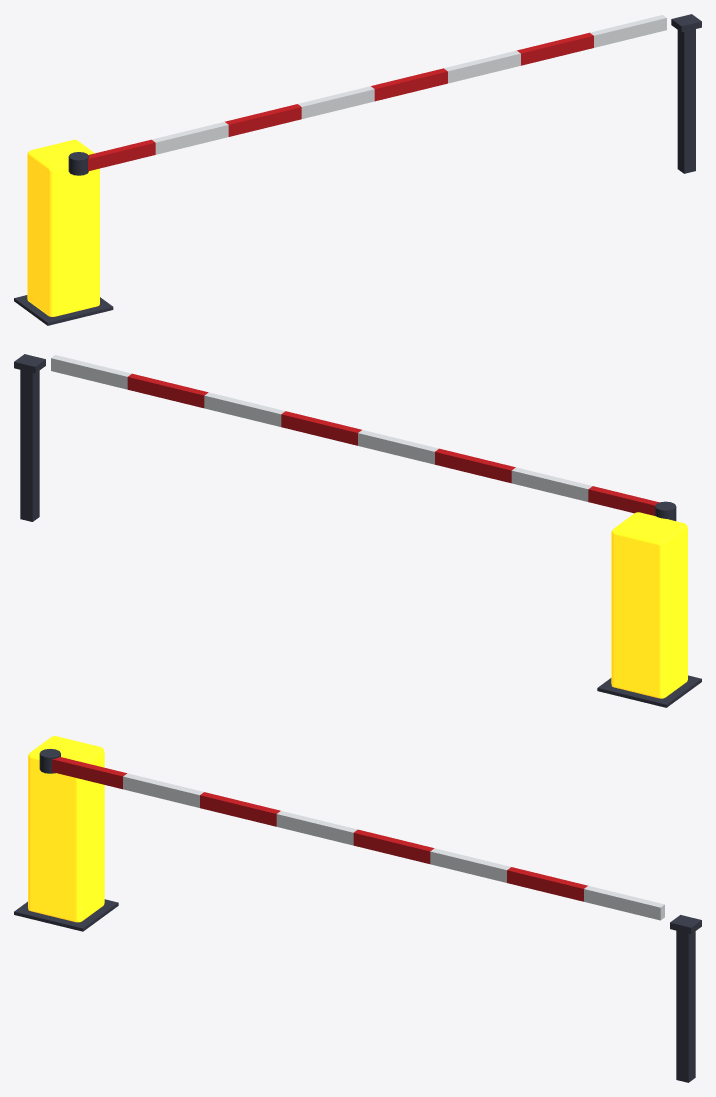
File: prk-005.glb
3 renders of one model, top to bottom at view 1: azimuth 30°, elevation 25°; view 2: azimuth 150°, elevation 25°; view 3: azimuth 330°, elevation 25°, orthographic. The views are drawn at different scales.
Visible parts, largest first — view 1: sign_yellow, white, accent_red, dark_steel; view 2: sign_yellow, white, accent_red, dark_steel; view 3: sign_yellow, white, accent_red, dark_steel.
Boxes of the visible parts, left/top/right/bottom form: sign_yellow: left=27, top=139, right=99, bottom=316; white: left=152, top=15, right=666, bottom=154; accent_red: left=88, top=32, right=593, bottom=171; dark_steel: left=14, top=14, right=701, bottom=325; sign_yellow: left=611, top=512, right=687, bottom=698; white: left=51, top=355, right=592, bottom=501; accent_red: left=127, top=373, right=659, bottom=515; dark_steel: left=14, top=354, right=701, bottom=707; sign_yellow: left=28, top=736, right=104, bottom=922; white: left=123, top=773, right=664, bottom=920; accent_red: left=52, top=757, right=587, bottom=901; dark_steel: left=14, top=748, right=701, bottom=1082.
Size of the model in its own units: 4.44 by 1.05 by 0.46.
